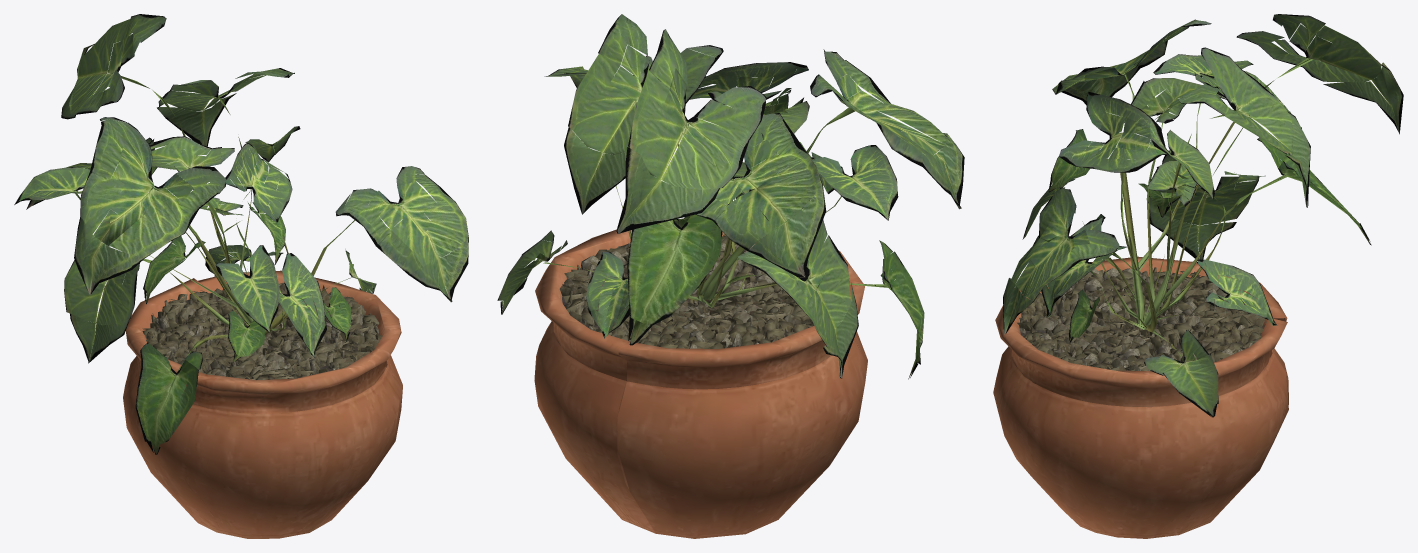
The model's file is plant2.glb.
The picture shows the model from 3 angles, left to right: view 1: azimuth 30°, elevation 25°; view 2: azimuth 150°, elevation 25°; view 3: azimuth 270°, elevation 25°; orthographic projection. The views are drawn at different scales.
Parts seen in each view (by area): view 1: potted_plant_02_leaves, potted_plant_02_pot; view 2: potted_plant_02_leaves, potted_plant_02_pot; view 3: potted_plant_02_pot, potted_plant_02_leaves.
Part boxes in pixels (x1,y1,x2,y2): potted_plant_02_leaves: (14,14,468,454); potted_plant_02_pot: (123,270,402,538); potted_plant_02_leaves: (497,14,964,379); potted_plant_02_pot: (534,224,867,538); potted_plant_02_pot: (993,256,1288,538); potted_plant_02_leaves: (1003,14,1403,417).
Size of the model in its own units: 0.7009 by 0.842 by 0.6594.
Materials: 2 (2 with a texture image).
